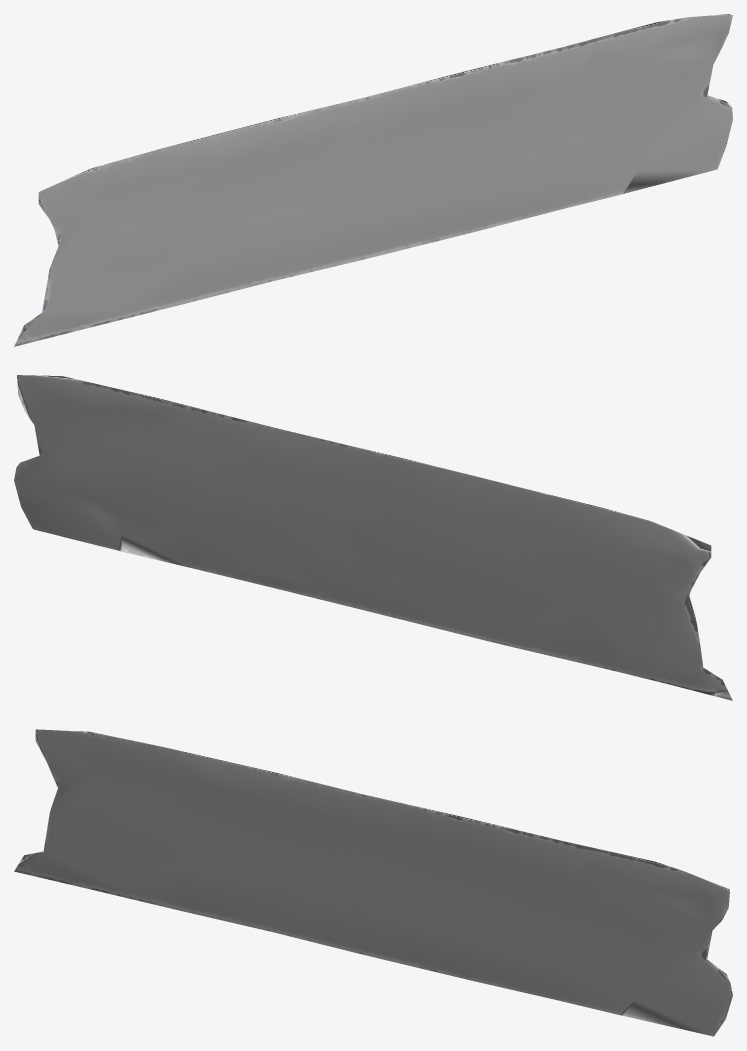
The model's file is tape+strip+3d+model.fbx.
3 views of the same model, one above another, from view 1: azimuth 30°, elevation 25°; view 2: azimuth 150°, elevation 25°; view 3: azimuth 330°, elevation 25° (orthographic).
Parts seen in each view (by area): view 1: tripo_node_39400260; view 2: tripo_node_39400260; view 3: tripo_node_39400260.
Part boxes in pixels (box(x1,y1,x2,y2)): tripo_node_39400260: box(14, 14, 732, 346); tripo_node_39400260: box(14, 375, 732, 700); tripo_node_39400260: box(14, 729, 732, 1036).
Size of the model in its own units: 0.9988 by 0.2187 by 0.0133.
1 material, 1 textured.
